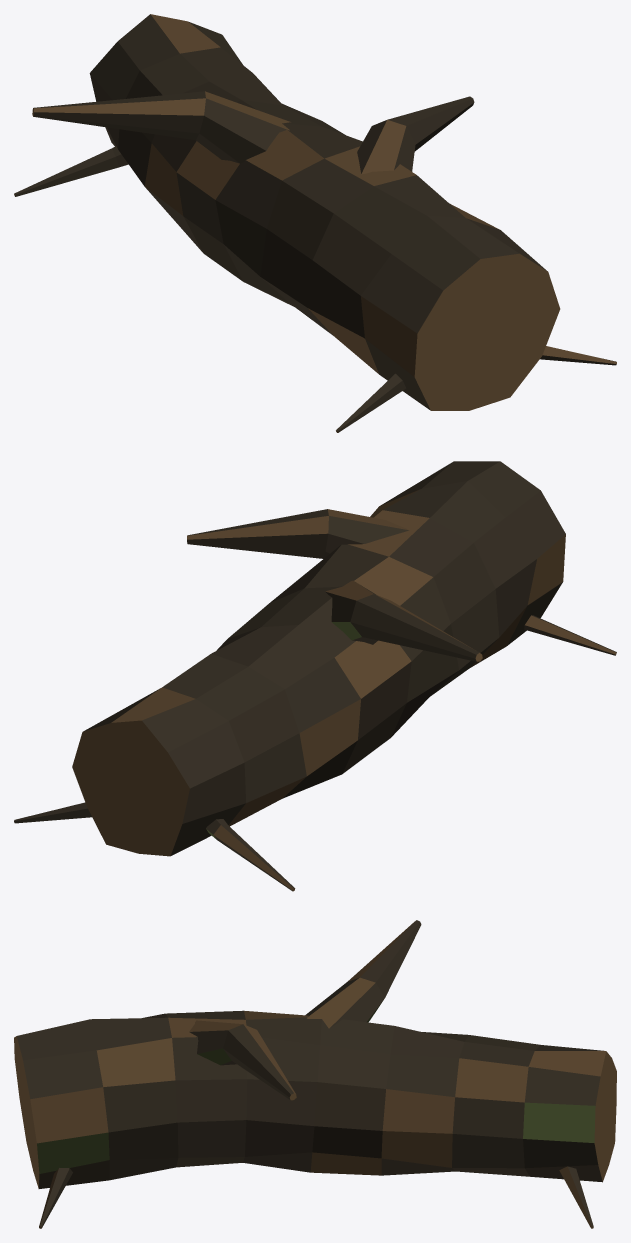
File: wood_001b_forked_fallen_log.glb
3 views of the same model, one above another, from view 1: azimuth 30°, elevation 25°; view 2: azimuth 150°, elevation 25°; view 3: azimuth 270°, elevation 25° (orthographic). The views are drawn at different scales.
Parts seen in each view (by area): view 1: wood_001b_forked_fallen_log__mesh; view 2: wood_001b_forked_fallen_log__mesh; view 3: wood_001b_forked_fallen_log__mesh.
Part boxes in pixels (x1,y1,x2,y2): wood_001b_forked_fallen_log__mesh: [14, 14, 616, 432]; wood_001b_forked_fallen_log__mesh: [14, 461, 616, 891]; wood_001b_forked_fallen_log__mesh: [14, 920, 616, 1228].
Bounding box in the file's own units: 3.14 × 1.57 × 5.2.
